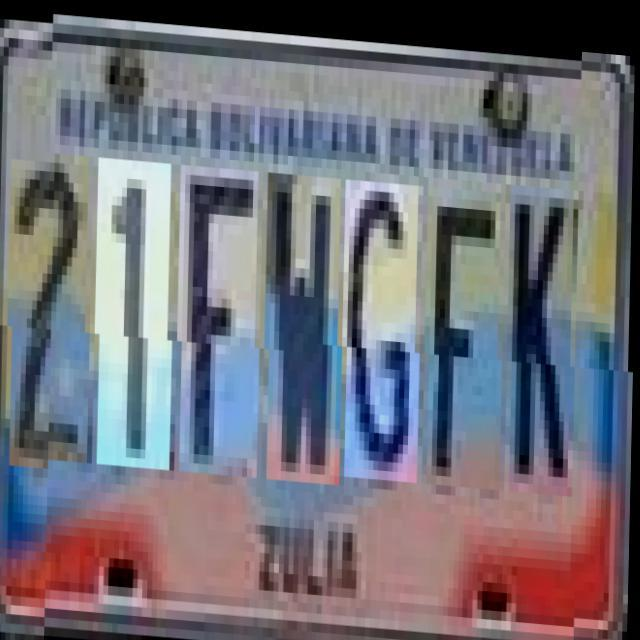1: (98, 156, 176, 467)
2: (11, 150, 94, 461)
F: (181, 162, 264, 473), (428, 179, 506, 481)
G: (346, 174, 424, 476)
K: (512, 175, 580, 486)
W: (268, 168, 346, 479)
